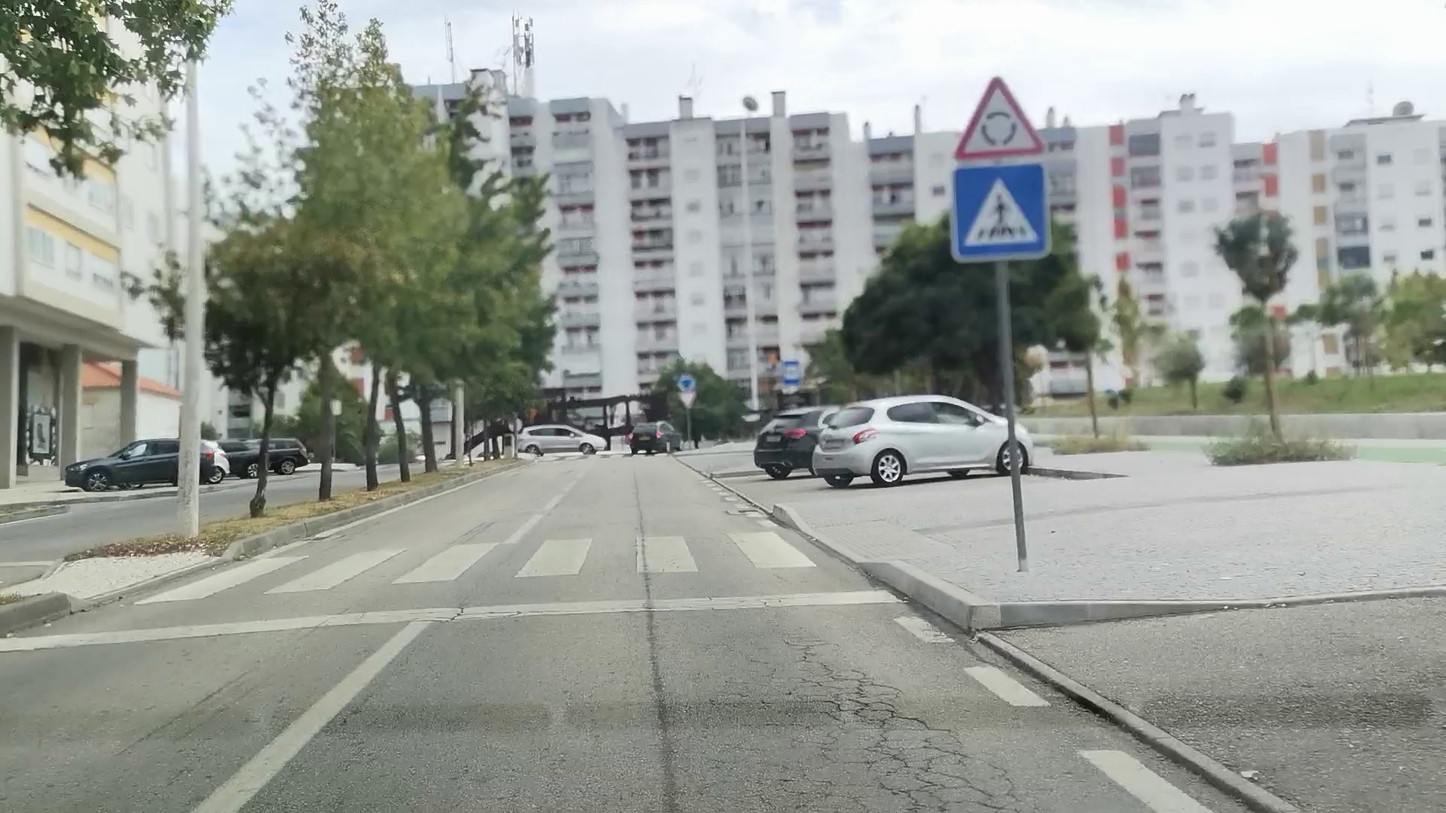Stairs: (143, 529, 818, 609)
